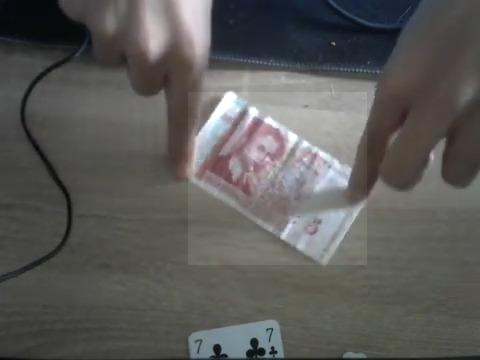5leva: (188, 92, 367, 265)
